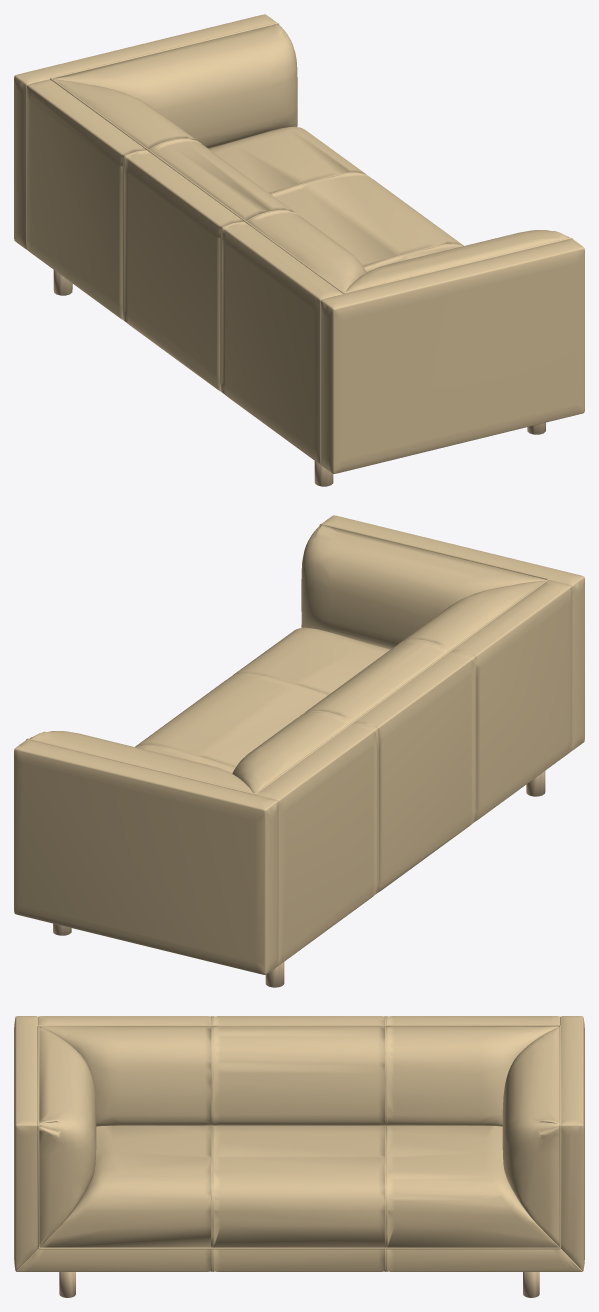
The model's file is HMI_Rolled_Arm_Sofa_72_3D.fbx.
The picture shows the model from 3 angles, top to bottom: view 1: azimuth 30°, elevation 25°; view 2: azimuth 150°, elevation 25°; view 3: azimuth 270°, elevation 25°; orthographic projection. The views are drawn at different scales.
Parts seen in each view (by area): view 1: Group1; view 2: Group1; view 3: Group1.
Boxes of the visible parts, x1,y1,x2,y2 form: Group1: (14,14,584,486); Group1: (14,515,584,987); Group1: (14,1016,584,1297).
Size of the model in its own units: 399 by 305 by 868.
